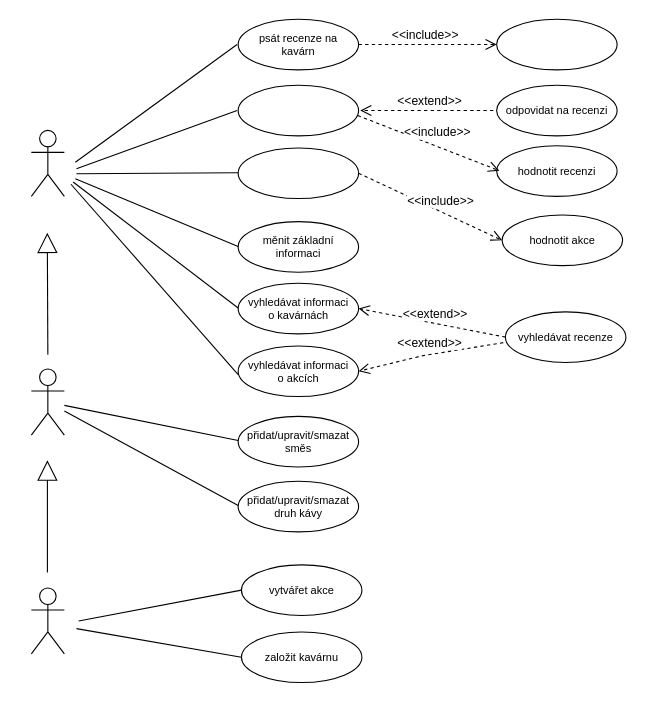
Some shapes in this 646 by 702 pixel diagram are drawn without their labels. The shapes that lost their labels are listed below. From the top down, each one's centre as x and y in pixels, then its label:
At [556,44]: "hodnotit kavárny".
At [298,110]: "reagovat na recenze".
At [47,162]: "Uživatel".
At [298,173]: "psát recenze na akce".
At [47,401]: "Pracovnik".
At [47,620]: "Majitel".
